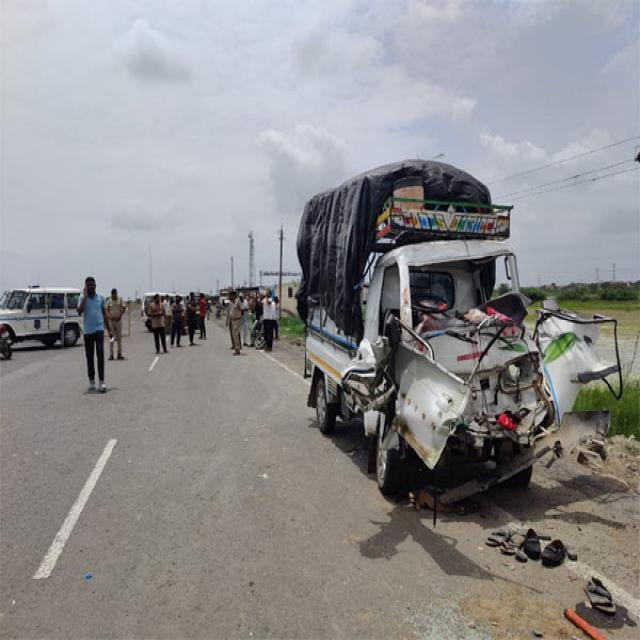accident: (298, 160, 621, 506)
car: (0, 288, 82, 346)
